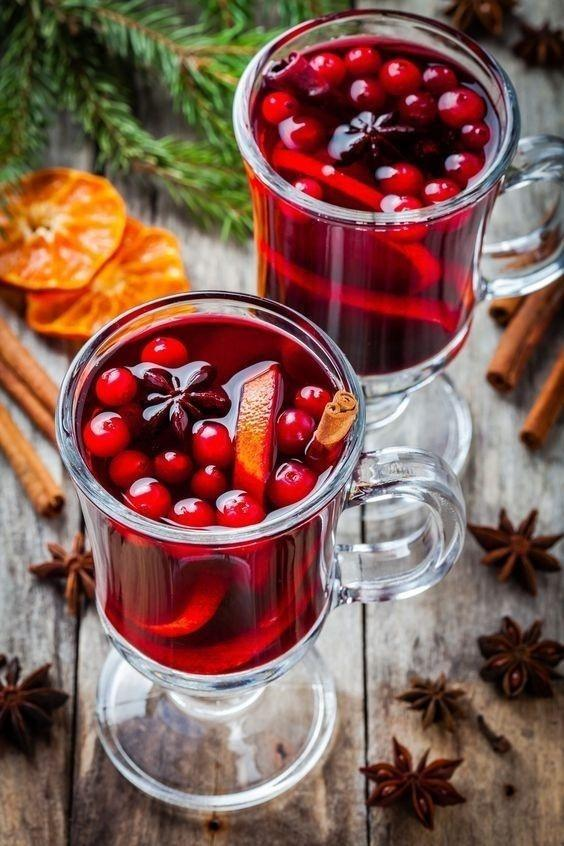glass-mug: (44, 278, 477, 829), (226, 4, 564, 425)
